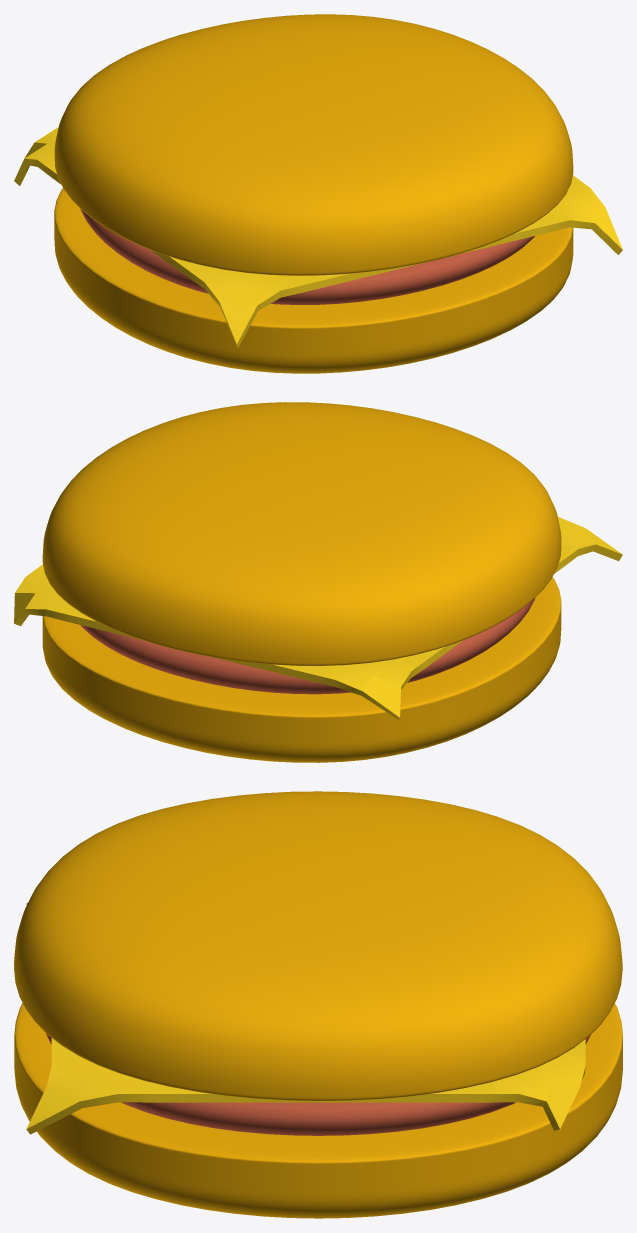
The model's file is burger3.glb.
3 views of the same model, one above another, from view 1: azimuth 30°, elevation 25°; view 2: azimuth 150°, elevation 25°; view 3: azimuth 270°, elevation 25° (orthographic). The views are drawn at different scales.
Visible parts, largest first — view 1: Cube.002, Cube, Plane, Cube.001; view 2: Cube.002, Cube, Plane, Cube.001; view 3: Cube.002, Cube, Plane, Cube.001.
Part boxes in pixels (bbox=[...]): Cube.002: bbox=[54, 14, 573, 275]; Cube: bbox=[54, 188, 573, 373]; Plane: bbox=[14, 127, 622, 347]; Cube.001: bbox=[80, 209, 534, 304]; Cube.002: bbox=[42, 402, 561, 665]; Cube: bbox=[42, 577, 561, 762]; Plane: bbox=[14, 517, 622, 719]; Cube.001: bbox=[80, 598, 534, 694]; Cube.002: bbox=[14, 791, 622, 1100]; Cube: bbox=[14, 1003, 622, 1218]; Plane: bbox=[26, 903, 585, 1134]; Cube.001: bbox=[46, 1033, 590, 1135].
Bounding box in the file's own units: 46.2 × 20.66 × 46.24.
